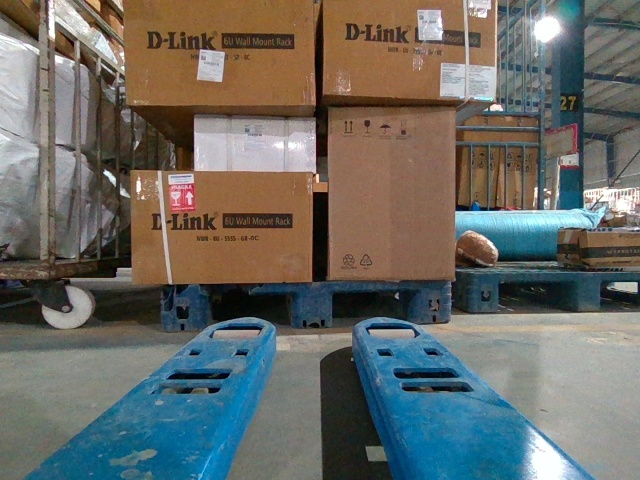block: (161, 283, 210, 331), (293, 286, 332, 329), (420, 281, 454, 324), (467, 271, 500, 313), (575, 272, 601, 312)
front: (162, 280, 451, 331)
hole pallet: (327, 283, 421, 324), (202, 287, 297, 326), (495, 278, 578, 310)
